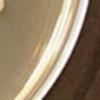white: (0, 0, 7, 16)
